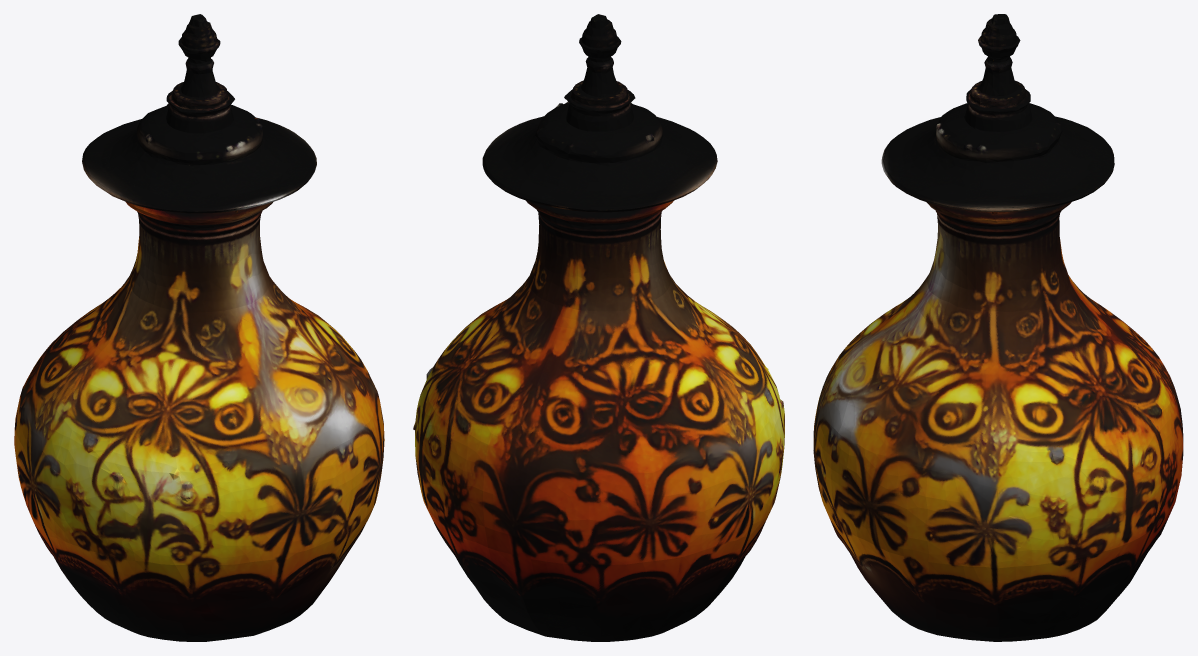
File: ceramic-lamp-vintage.jpeg.glb
3 renders of one model, left to right at view 1: azimuth 30°, elevation 25°; view 2: azimuth 150°, elevation 25°; view 3: azimuth 270°, elevation 25°, orthographic.
Visible parts, largest first — view 1: world; view 2: world; view 3: world.
Part boxes in pixels (box(x1,y1,x2,y2)): world: box(14, 14, 384, 641); world: box(413, 14, 784, 641); world: box(813, 14, 1183, 641).
Bounding box in the file's own units: 0.5757 × 1 × 0.5745.
1 material, 1 textured.
